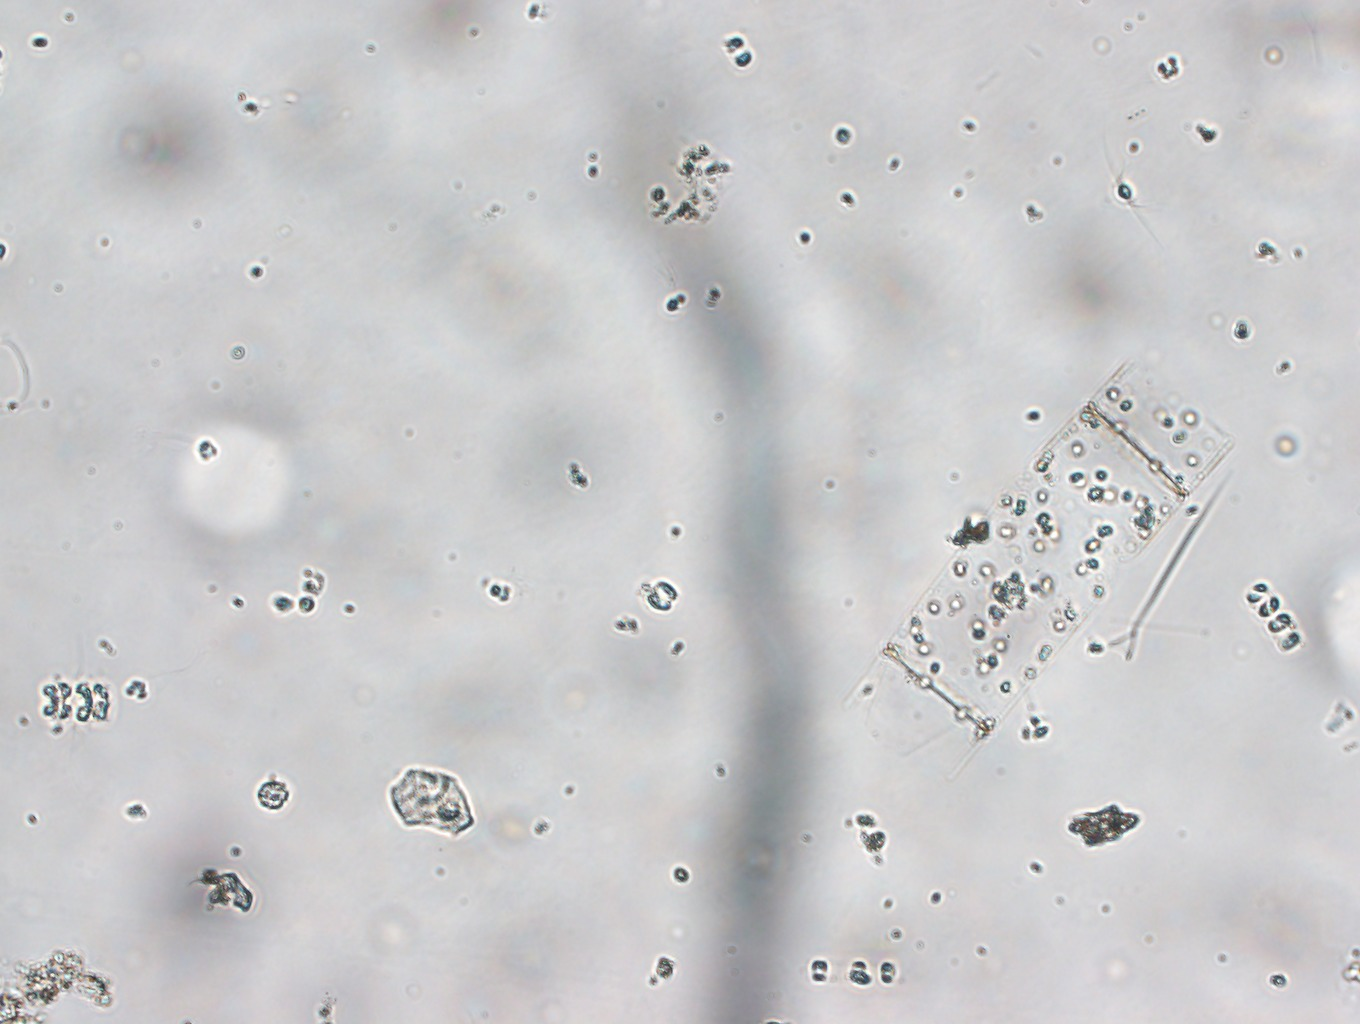guinardia flaccida: (864, 332, 1246, 750)
